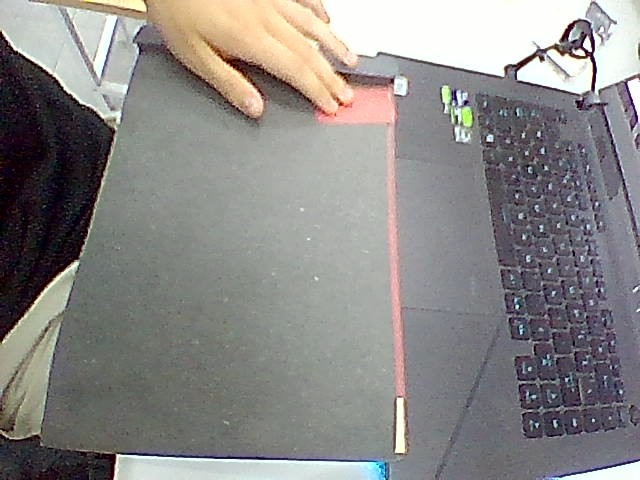card: (316, 85, 396, 125)
